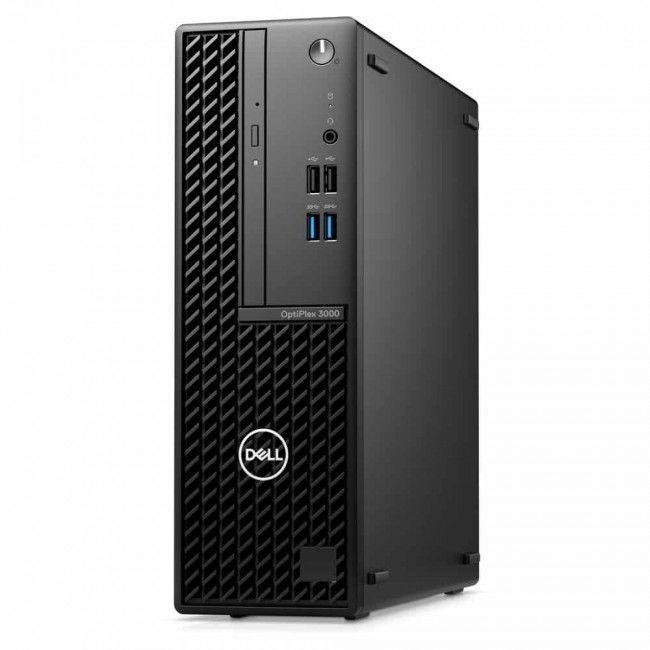DESKTOP PC: (174, 15, 480, 613)
